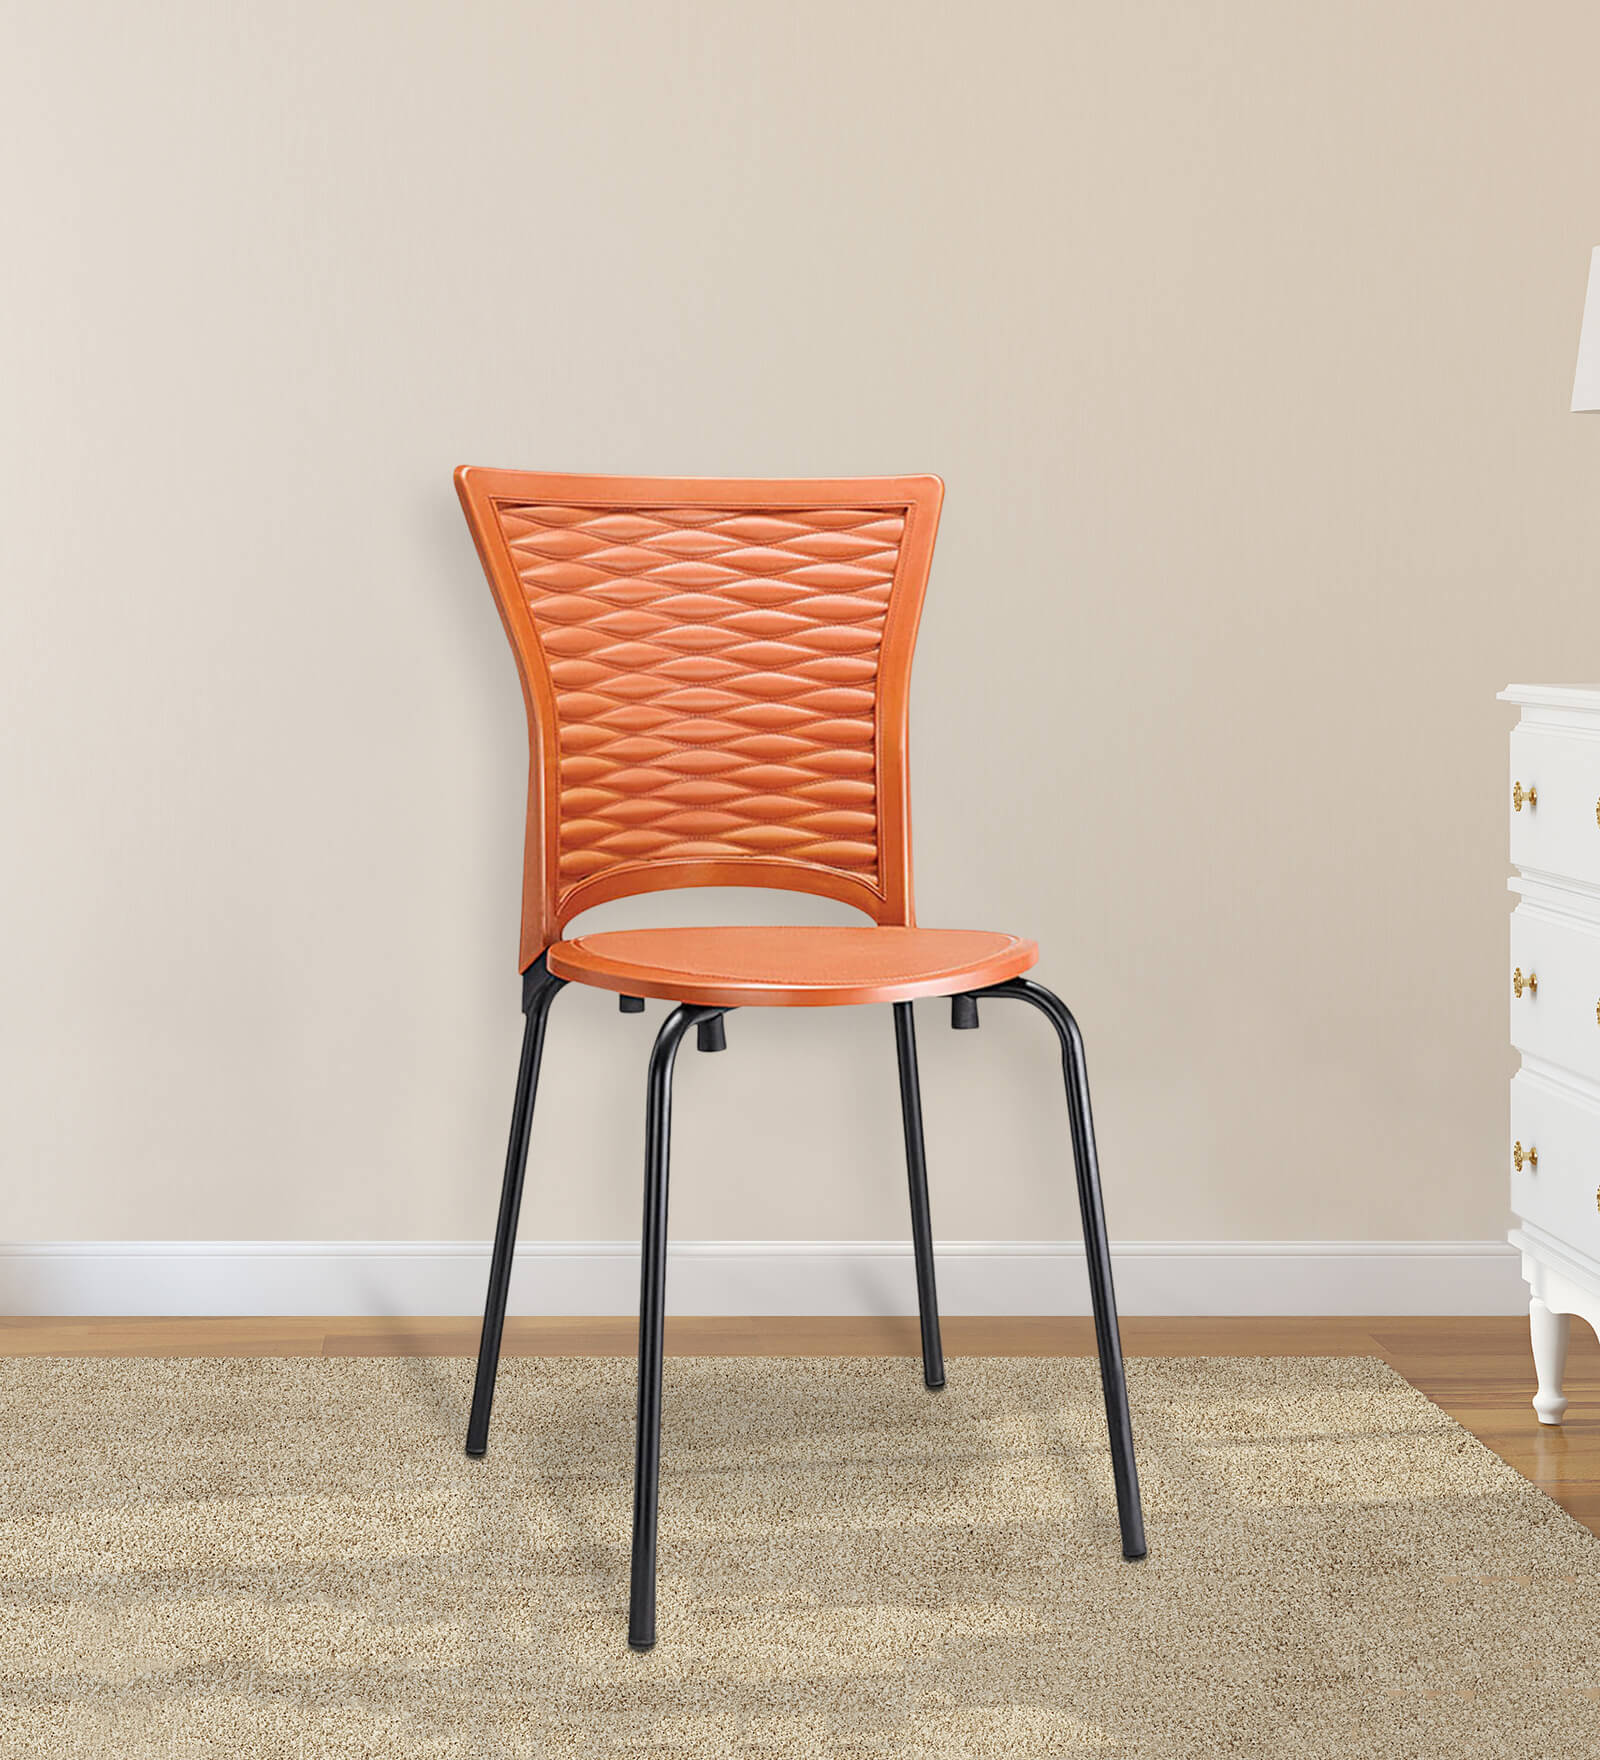Novella Chair in Rust Colour by Nilkamal: (441, 460, 1154, 1656)
